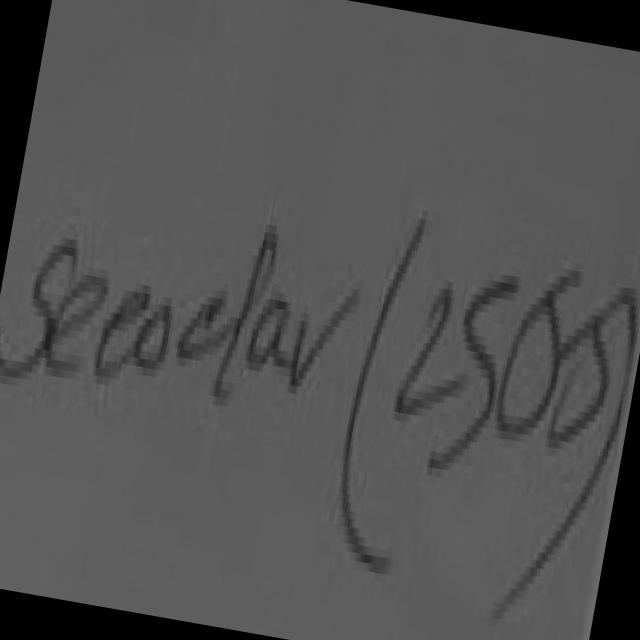0: (498, 271, 580, 439)
2: (399, 289, 463, 412)
5: (430, 275, 519, 475)
S: (0, 240, 77, 375)
a: (248, 299, 289, 369)
c: (96, 285, 150, 375), (178, 297, 231, 357)
e: (49, 275, 106, 376)
l: (215, 226, 277, 396)
o: (134, 304, 171, 366)
v: (291, 289, 359, 393)
